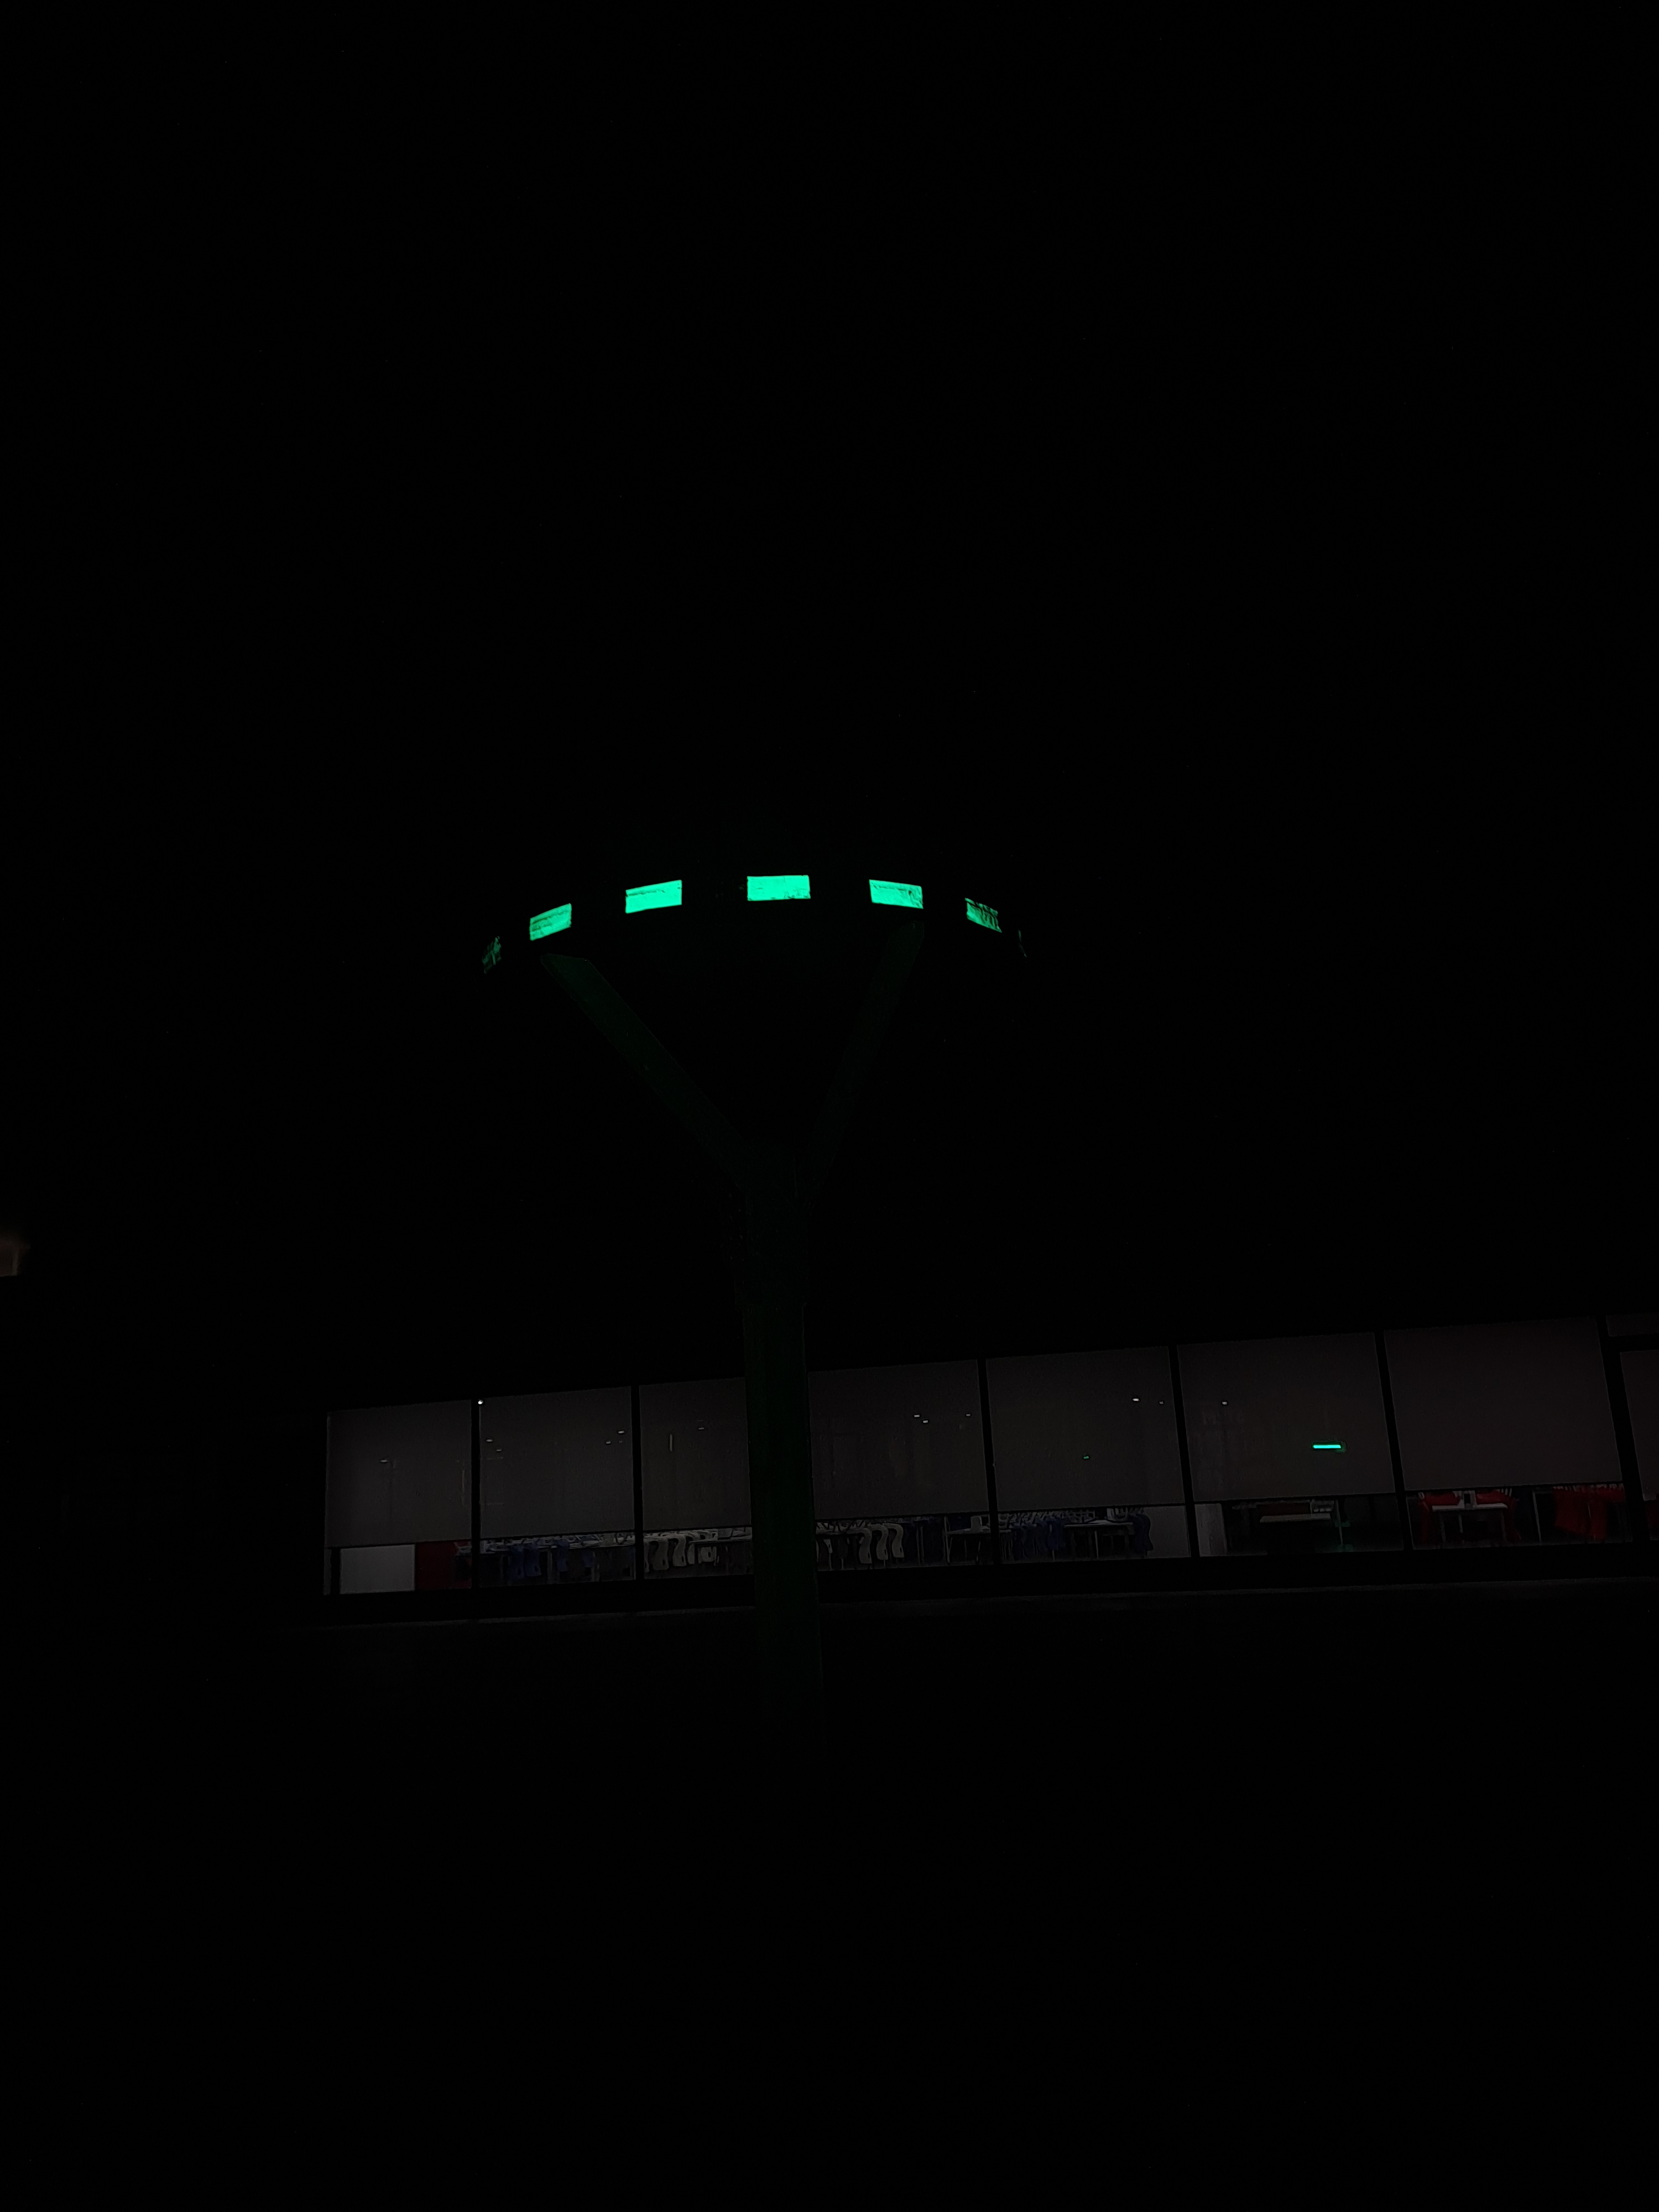hoop: (526, 876, 1009, 946)
